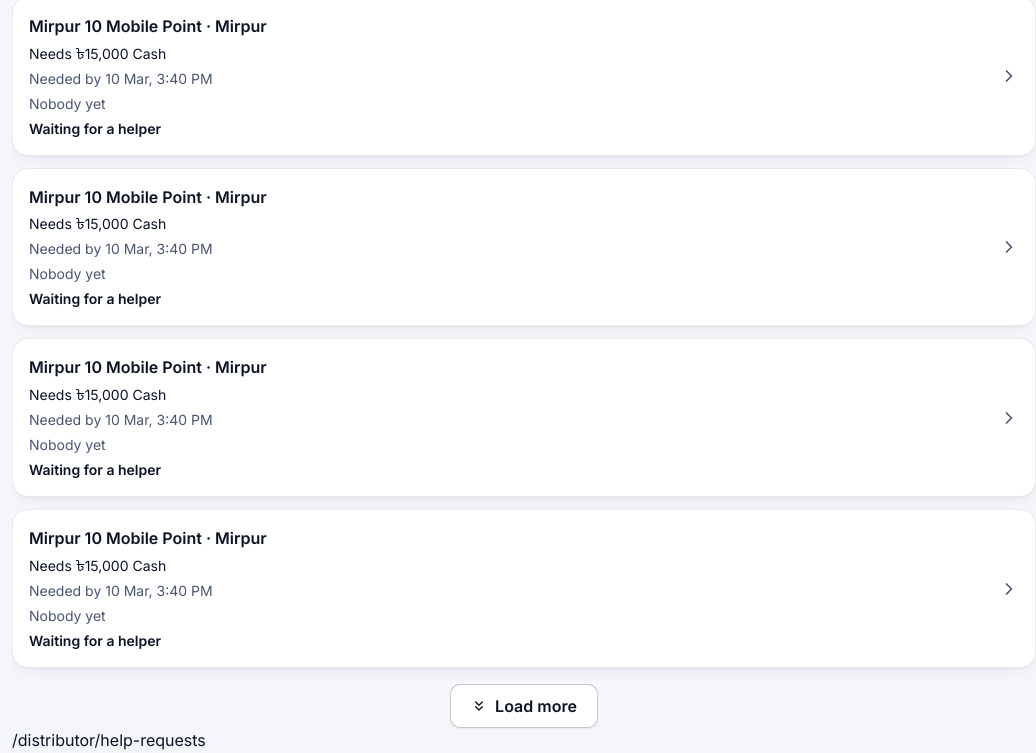
Test case: distributor help request list › flags urgent and last-wave rows and loads more than the first page
The width and height of the screenshot is (1036, 753).
(page scrolled)
Click the button with test id "help-load-more": (524, 706) [450,684,598,728]
(page scrolled)
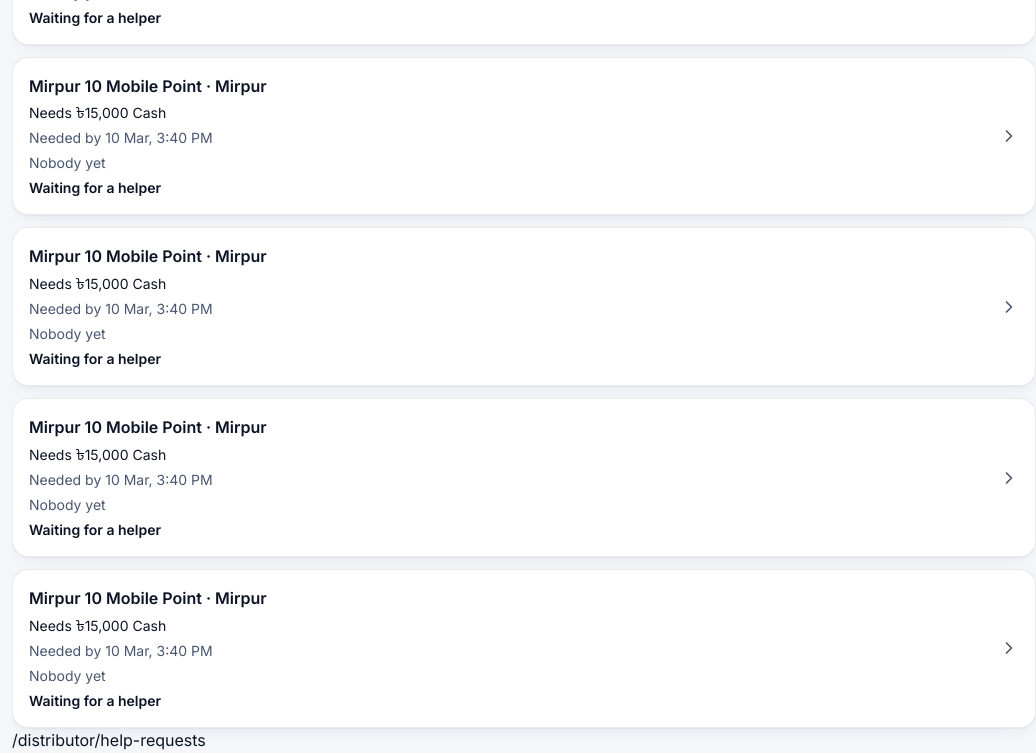
Now the link with test id "help-row-26" is shown, box [12,569,1035,728]
Now the button with test id "help-load-more" is gone
